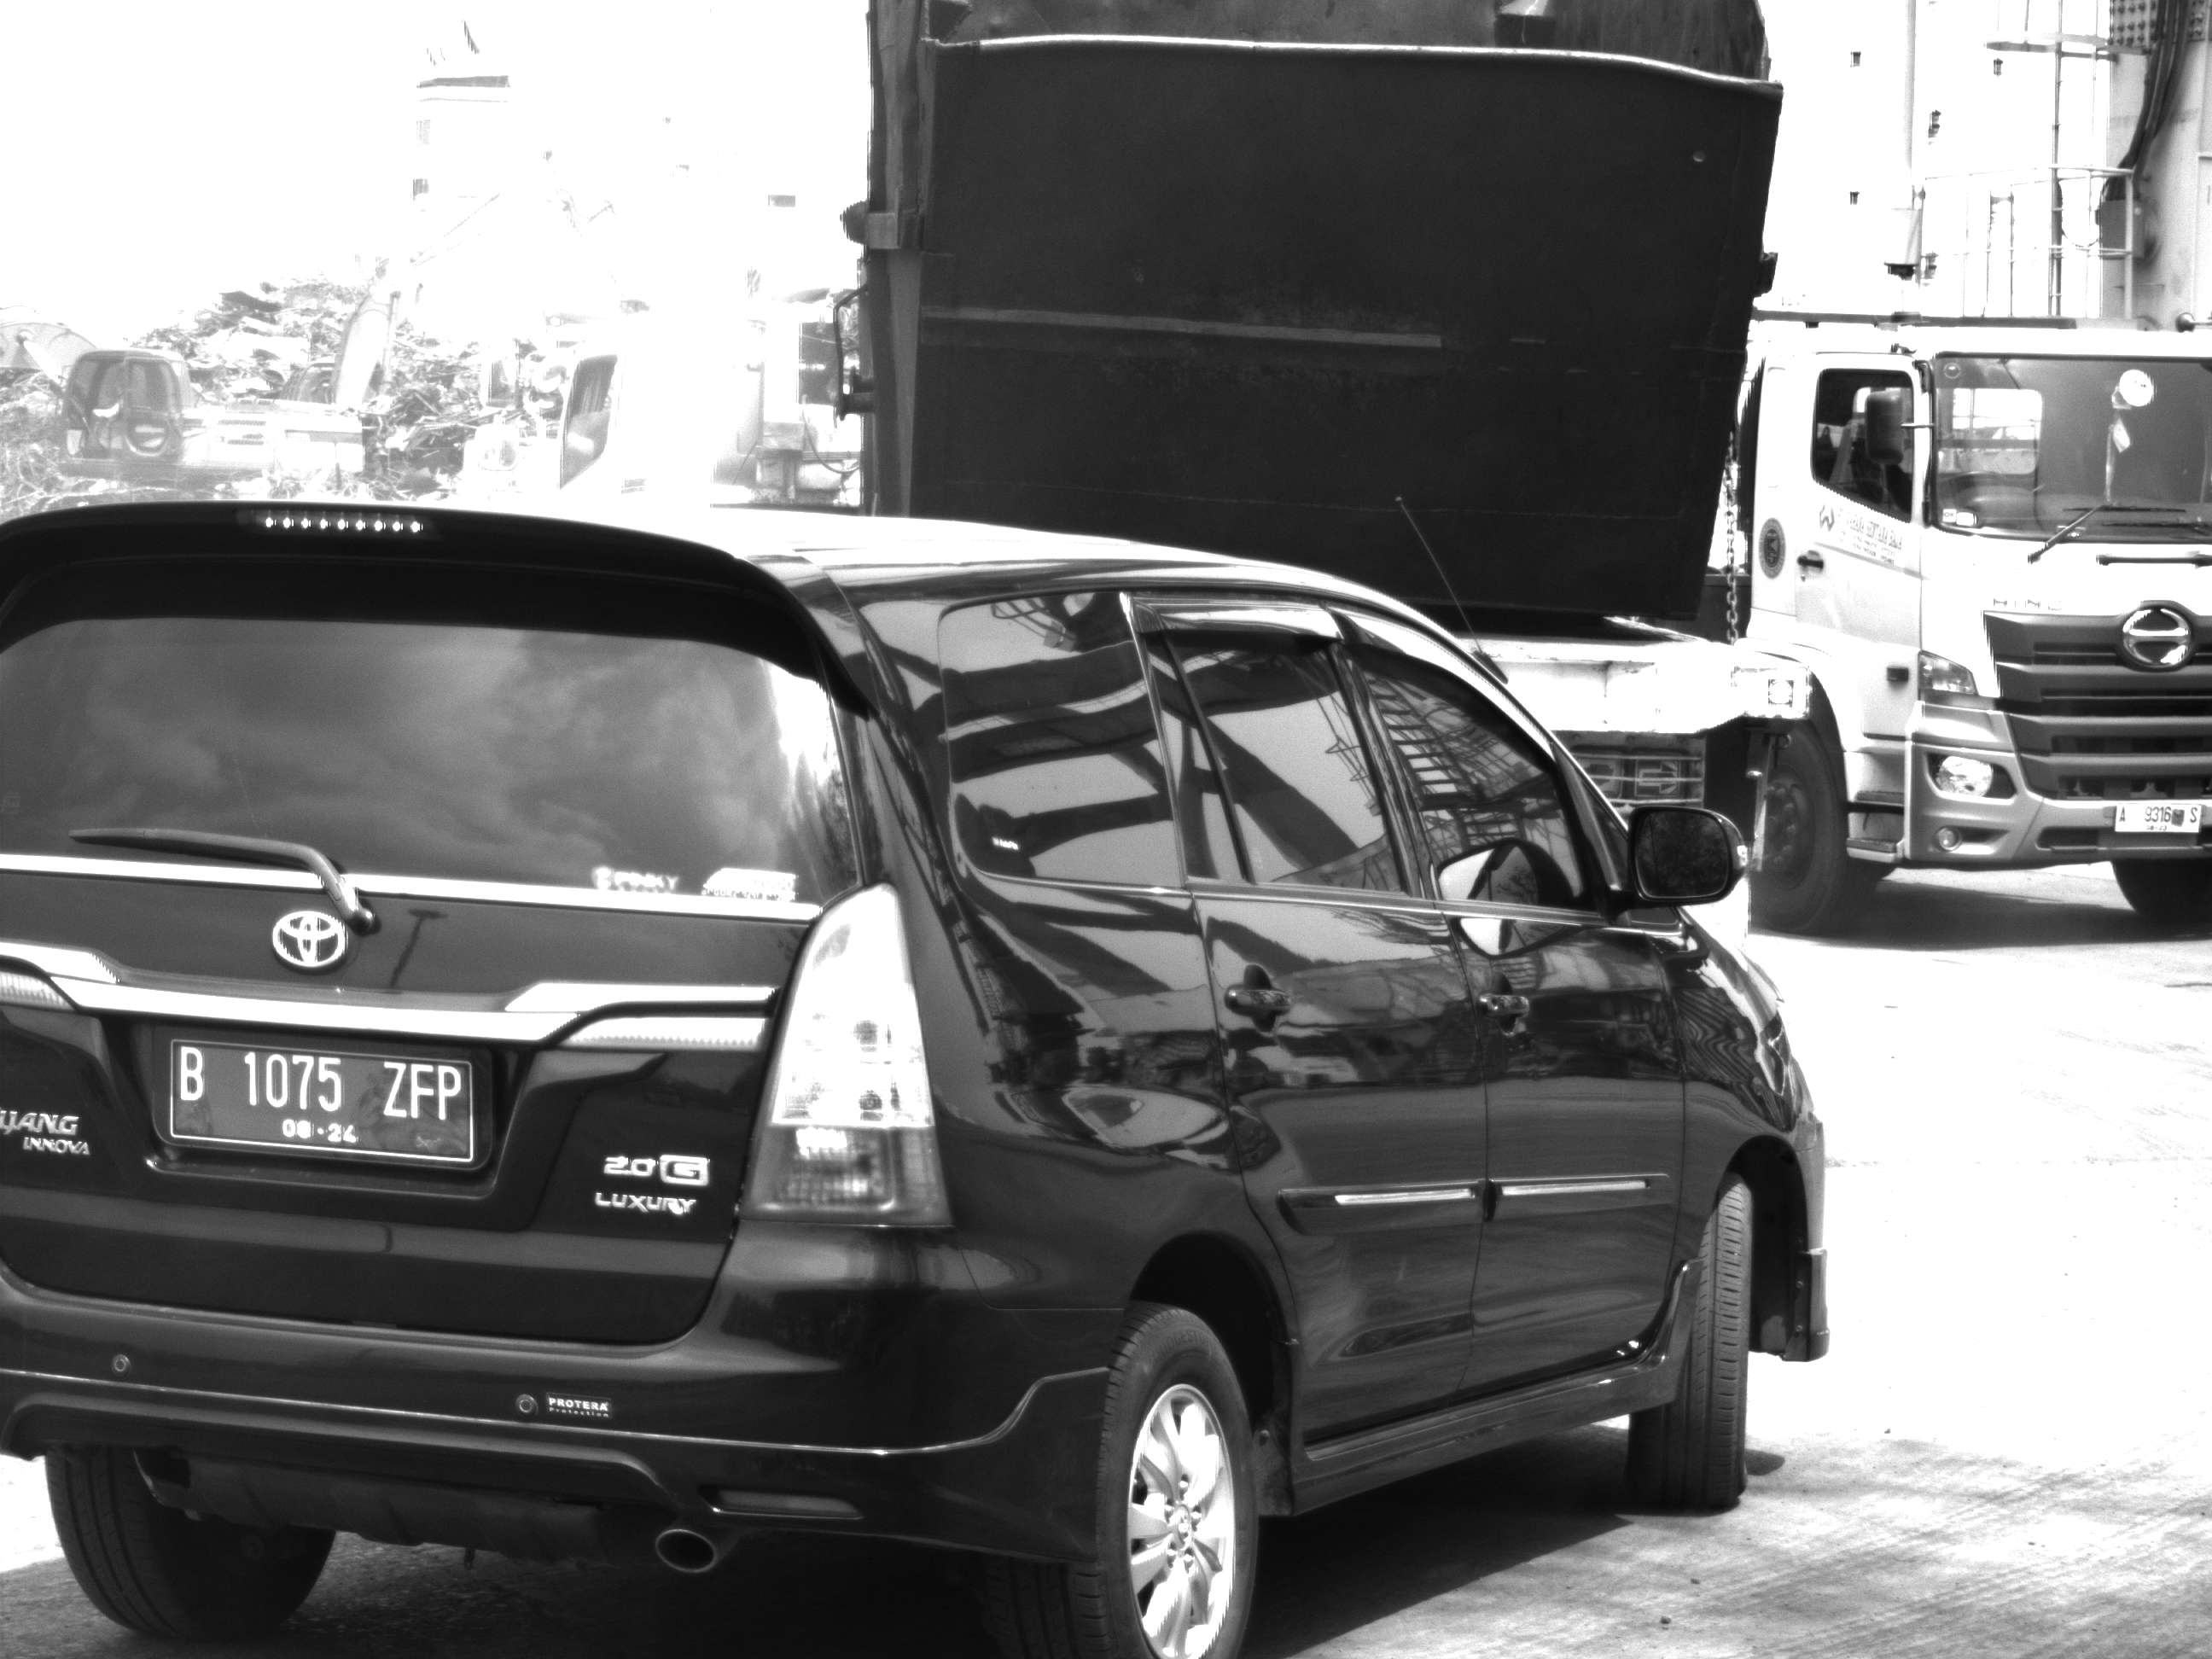day_small_rear: (1, 473, 1385, 1654)
day_truck_front: (1773, 315, 2212, 939)
plate: (159, 1040, 472, 1170), (2114, 795, 2207, 837)
